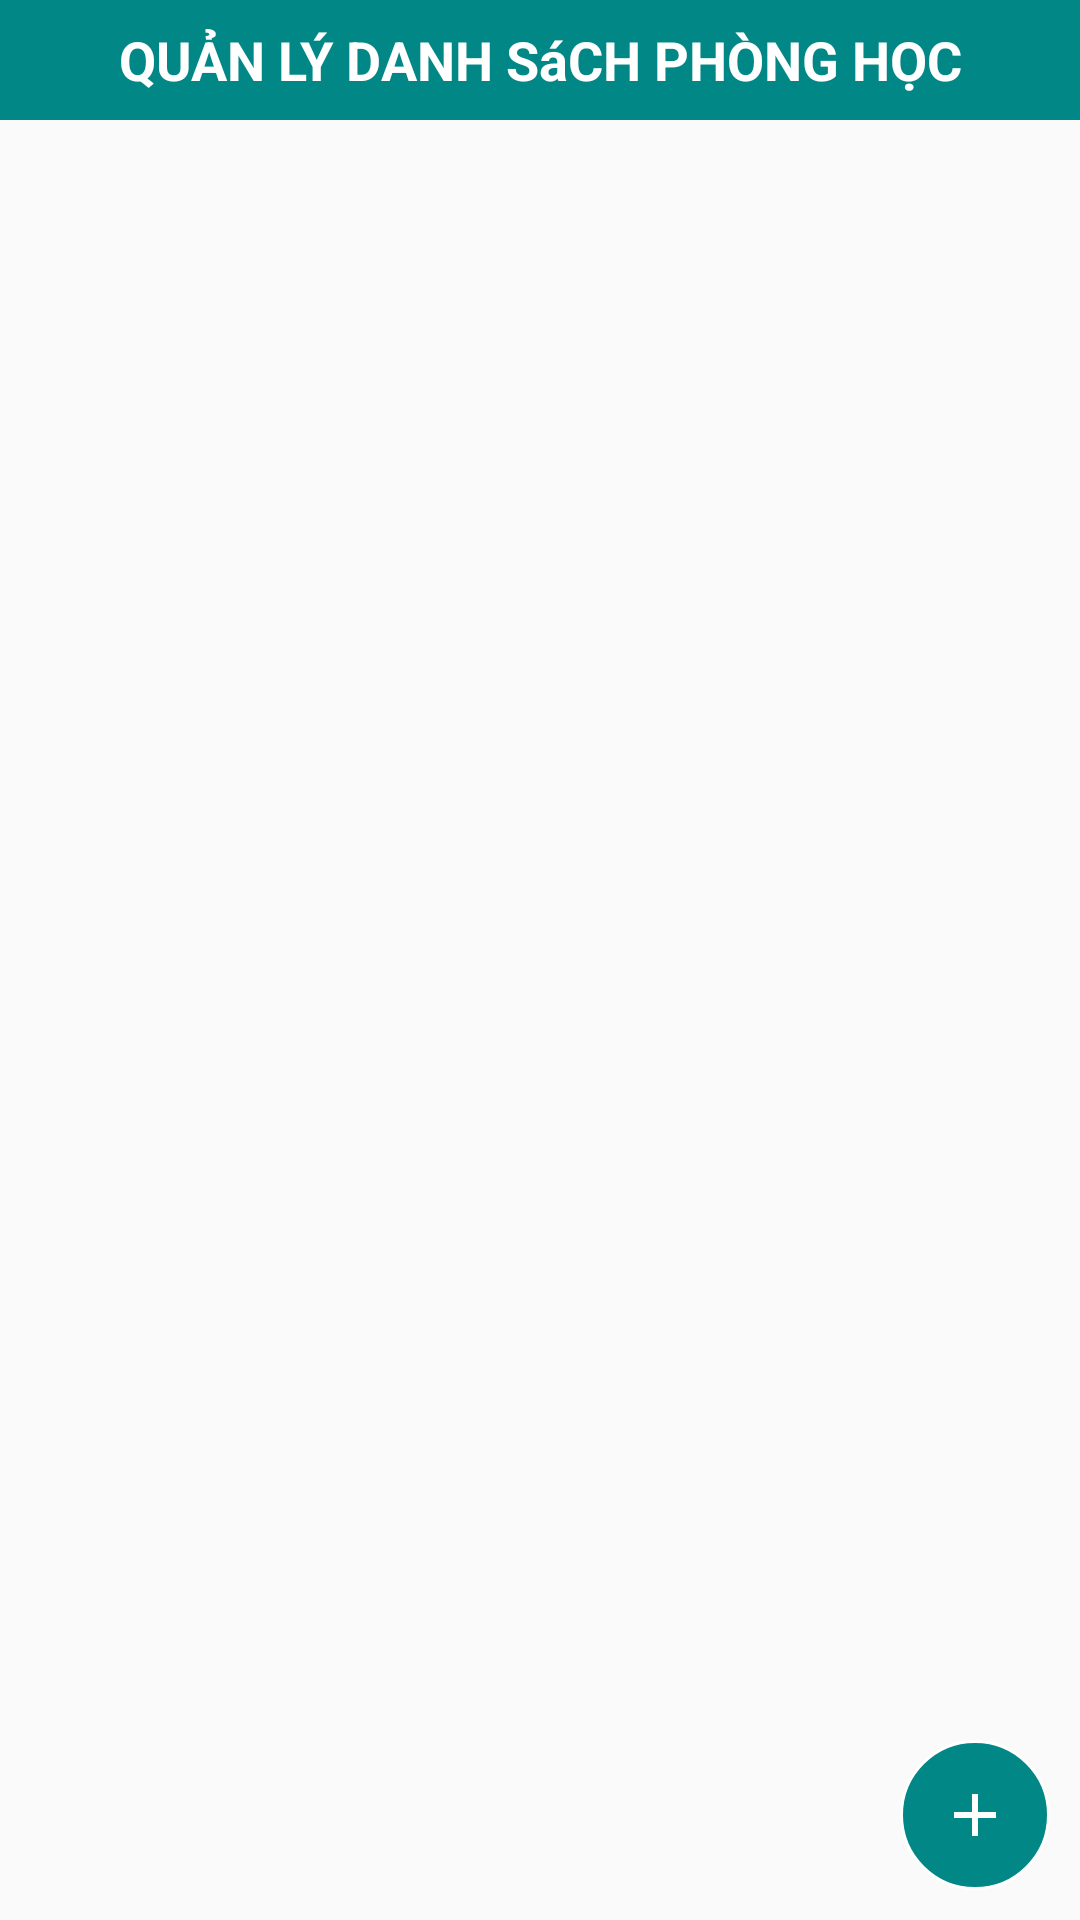

Point at icon controls on the screen. Image size 1080x1920, points as (x=x, y=y).
add: (x=975, y=1815)
